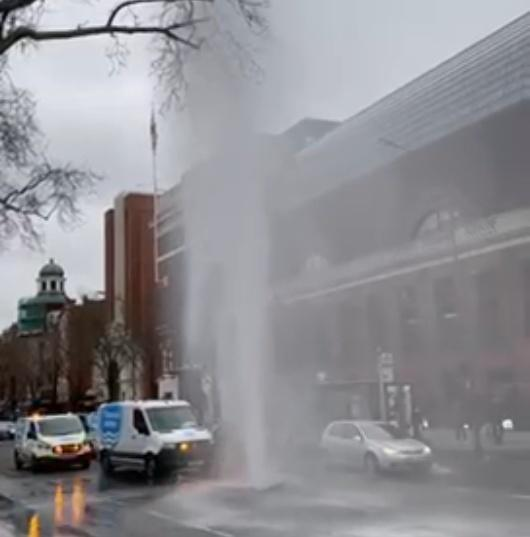pipe burst: (175, 0, 284, 485)
